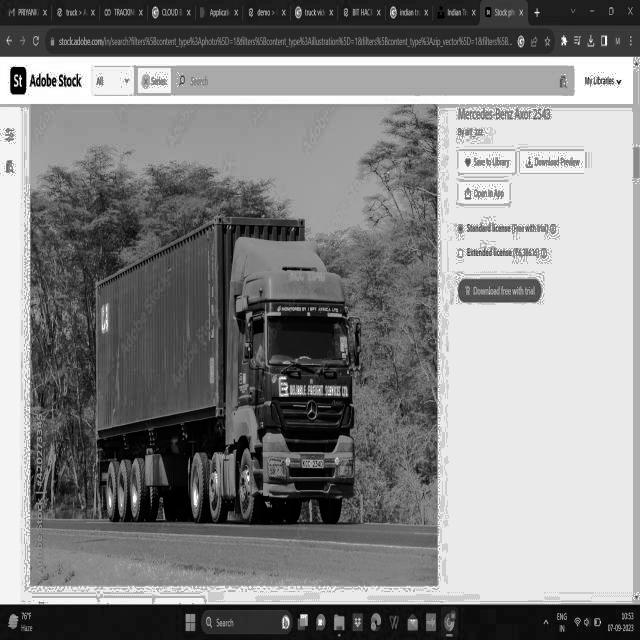HCV: (84, 165, 384, 549)
